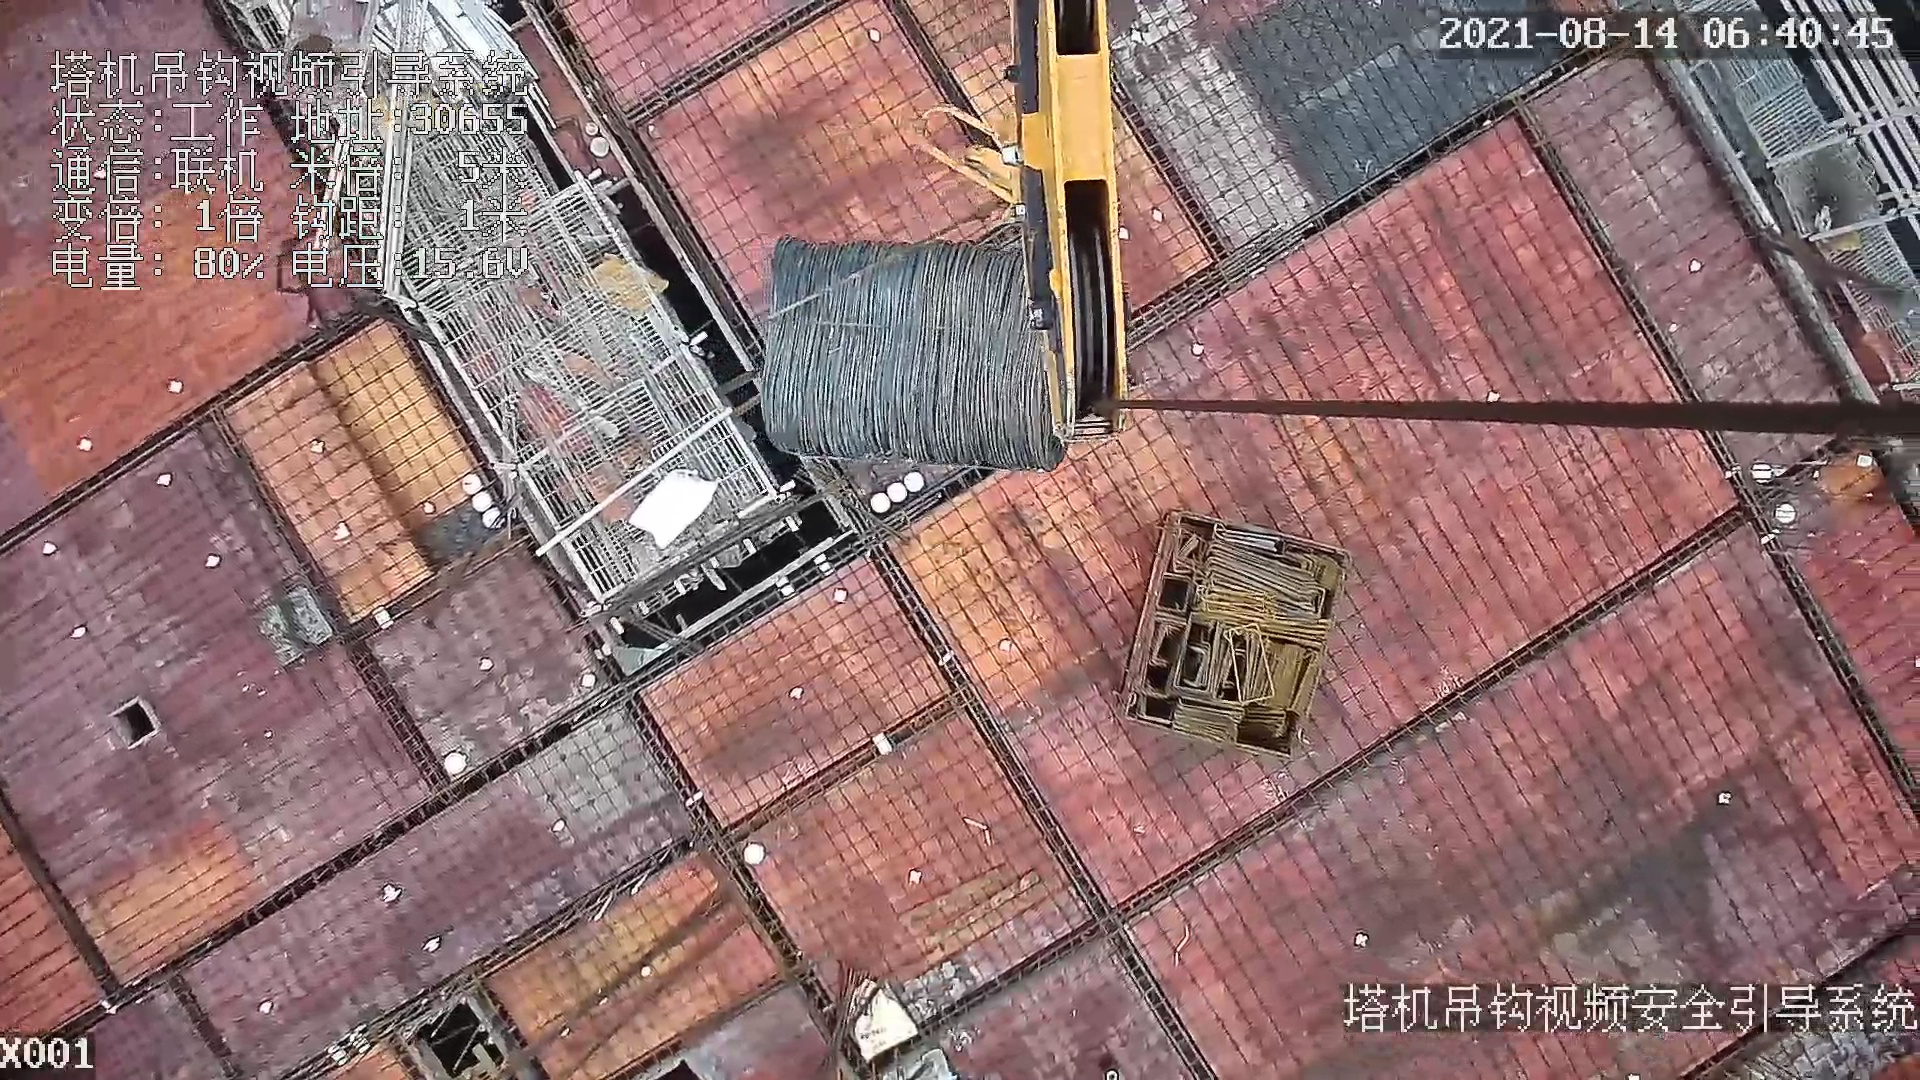hook: (914, 1, 1131, 440)
